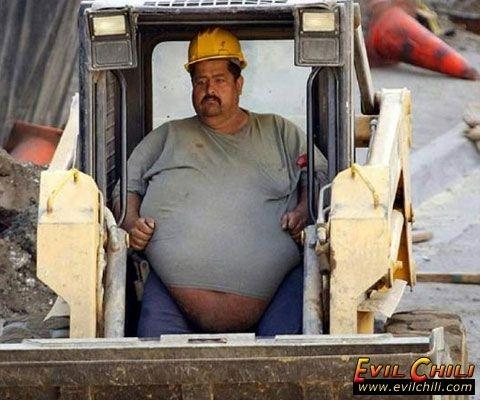helmet: (184, 25, 249, 69), (417, 357, 431, 363)
no_wear: (139, 117, 301, 299)
